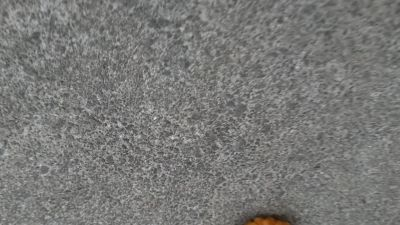eggs: (243, 215, 298, 225)
